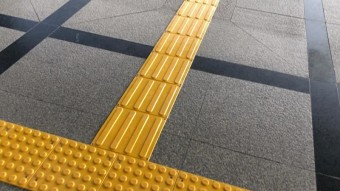guideBlock: (127, 75, 186, 119), (100, 111, 159, 153), (148, 53, 192, 87), (157, 31, 202, 64), (169, 15, 202, 37), (181, 3, 217, 22)
warningBlock: (1, 120, 58, 188), (44, 129, 102, 191), (107, 159, 178, 191)
